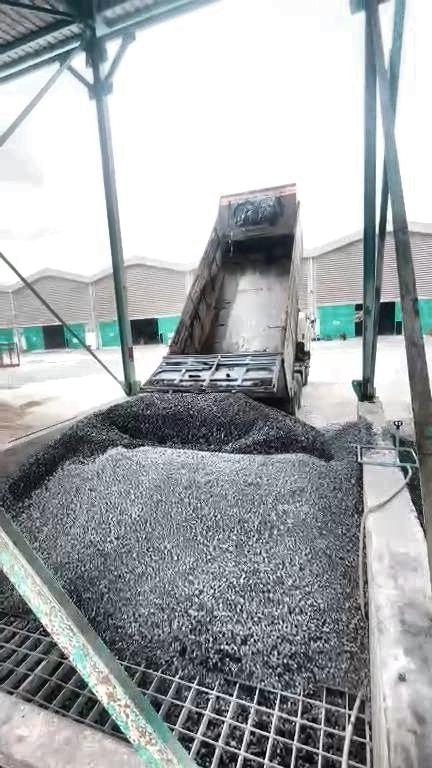gravel: (1, 393, 378, 691), (398, 436, 425, 532), (1, 569, 31, 617)
sand: (1, 399, 42, 442)
